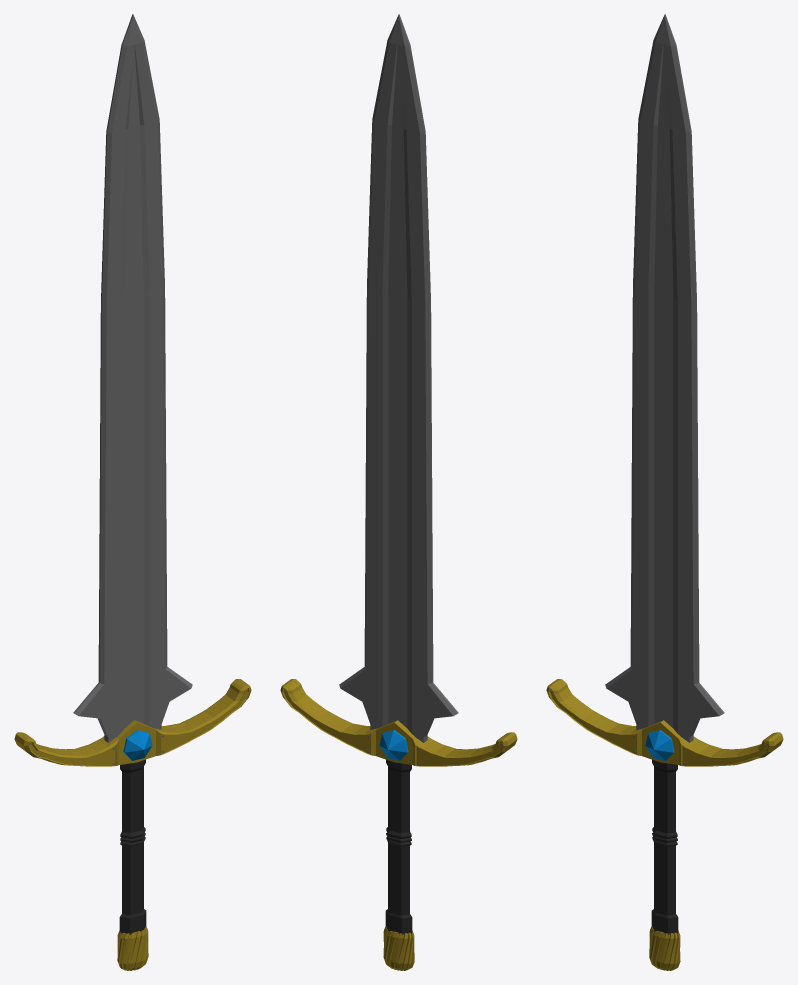
File: Espada_Completa.fbx
3 views of the same model, side by side, from view 1: azimuth 30°, elevation 25°; view 2: azimuth 150°, elevation 25°; view 3: azimuth 330°, elevation 25° (orthographic).
Parts seen in each view (by area): view 1: blade, guard, grip, pomel, sapphire; view 2: blade, guard, grip, pomel, sapphire; view 3: blade, guard, grip, pomel, sapphire.
Part boxes in pixels (left/top/right/bottom): blade: left=73, top=14, right=192, bottom=742; guard: left=14, top=679, right=251, bottom=766; grip: left=119, top=759, right=146, bottom=934; pomel: left=117, top=926, right=148, bottom=970; sapphire: left=123, top=730, right=152, bottom=760; blade: left=339, top=14, right=458, bottom=742; guard: left=280, top=679, right=517, bottom=766; grip: left=385, top=759, right=412, bottom=934; pomel: left=383, top=926, right=414, bottom=970; sapphire: left=379, top=730, right=408, bottom=760; blade: left=605, top=14, right=724, bottom=742; guard: left=546, top=679, right=783, bottom=766; grip: left=651, top=759, right=678, bottom=934; pomel: left=649, top=926, right=680, bottom=970; sapphire: left=645, top=730, right=674, bottom=760.
Size of the model in its own units: 576 by 2303 by 96.82.
